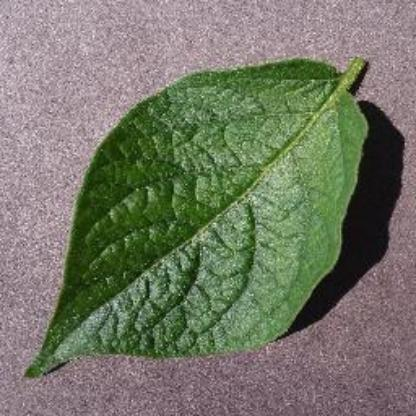Healthy-plant: (19, 42, 383, 384)
